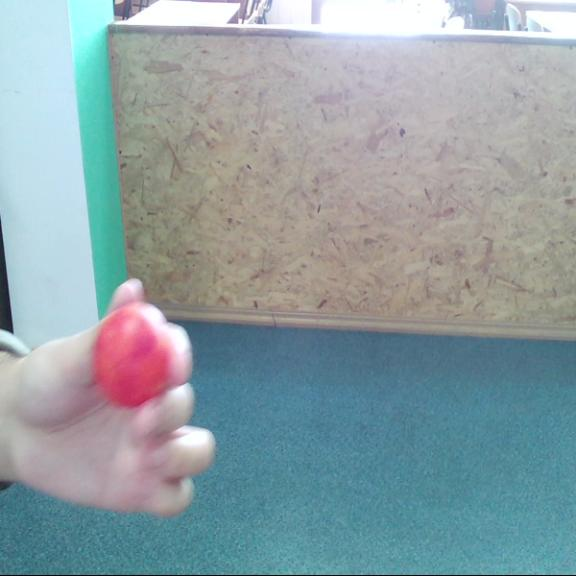ball: (89, 304, 174, 408)
